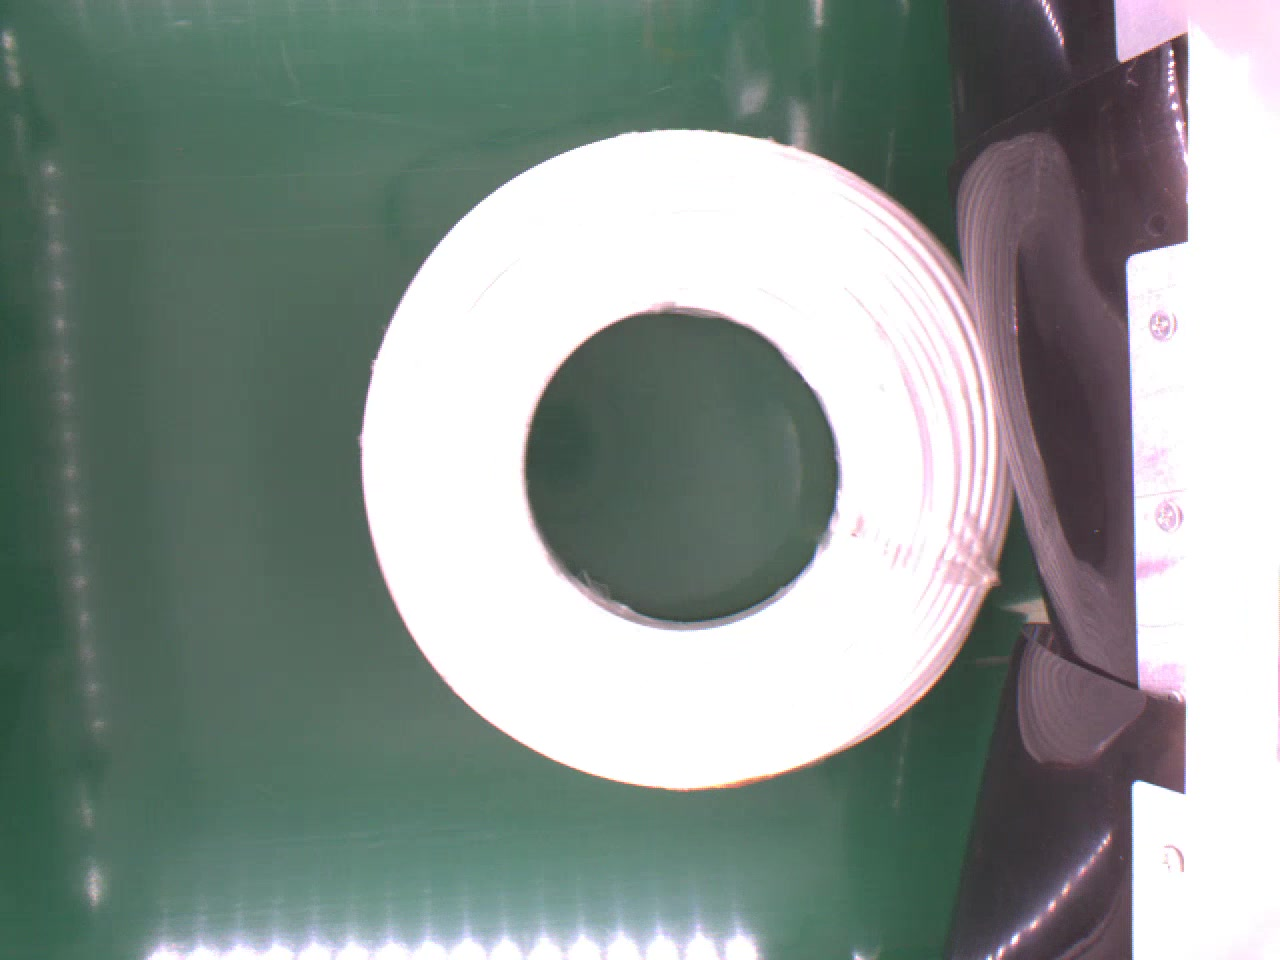white: (356, 127, 1008, 789)
